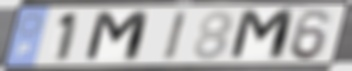1: (54, 12, 82, 63)
6: (286, 7, 334, 63)
8: (191, 9, 237, 62)
I: (160, 9, 190, 63)
M: (227, 7, 299, 62), (82, 9, 154, 64)
